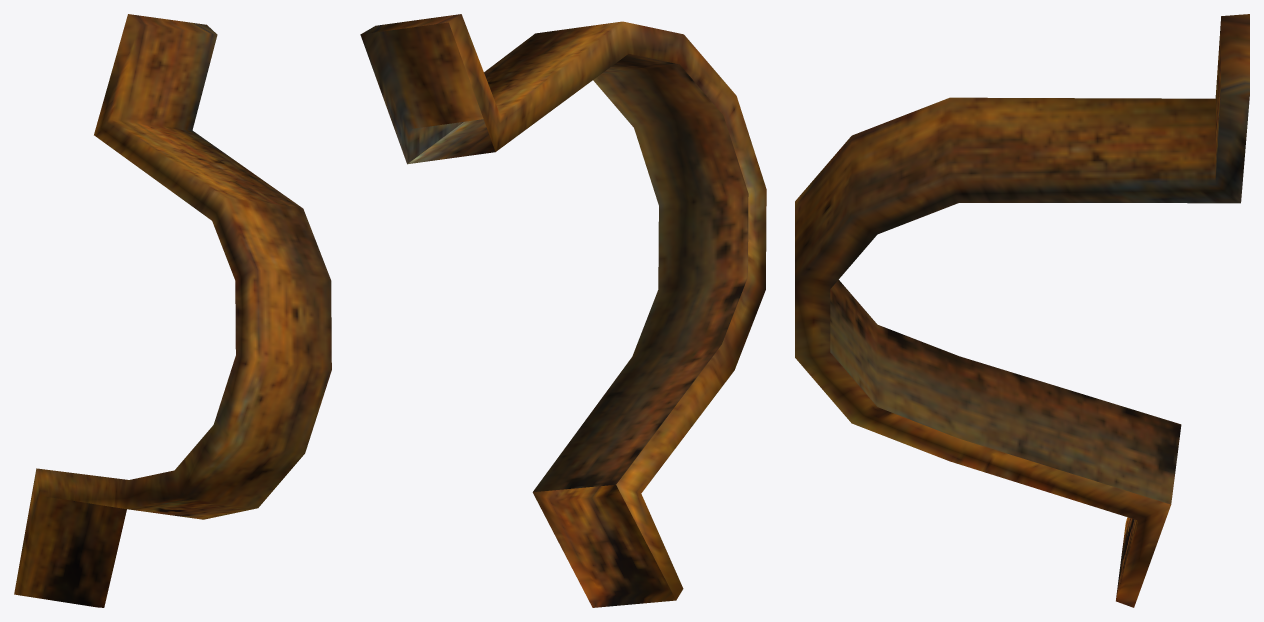
File: PipeBraceBroken.fbx
The picture shows the model from 3 angles, left to right: view 1: azimuth 30°, elevation 25°; view 2: azimuth 150°, elevation 25°; view 3: azimuth 270°, elevation 25°; orthographic projection. The views are drawn at different scales.
Visible parts, largest first — view 1: PipeBraceBroken; view 2: PipeBraceBroken; view 3: PipeBraceBroken.
Boxes of the visible parts, x1,y1,x2,y2 form: PipeBraceBroken: (14, 14, 331, 607); PipeBraceBroken: (360, 14, 766, 607); PipeBraceBroken: (795, 14, 1249, 607).
Bounding box in the file's own units: 20.33 × 44.07 × 28.38.
